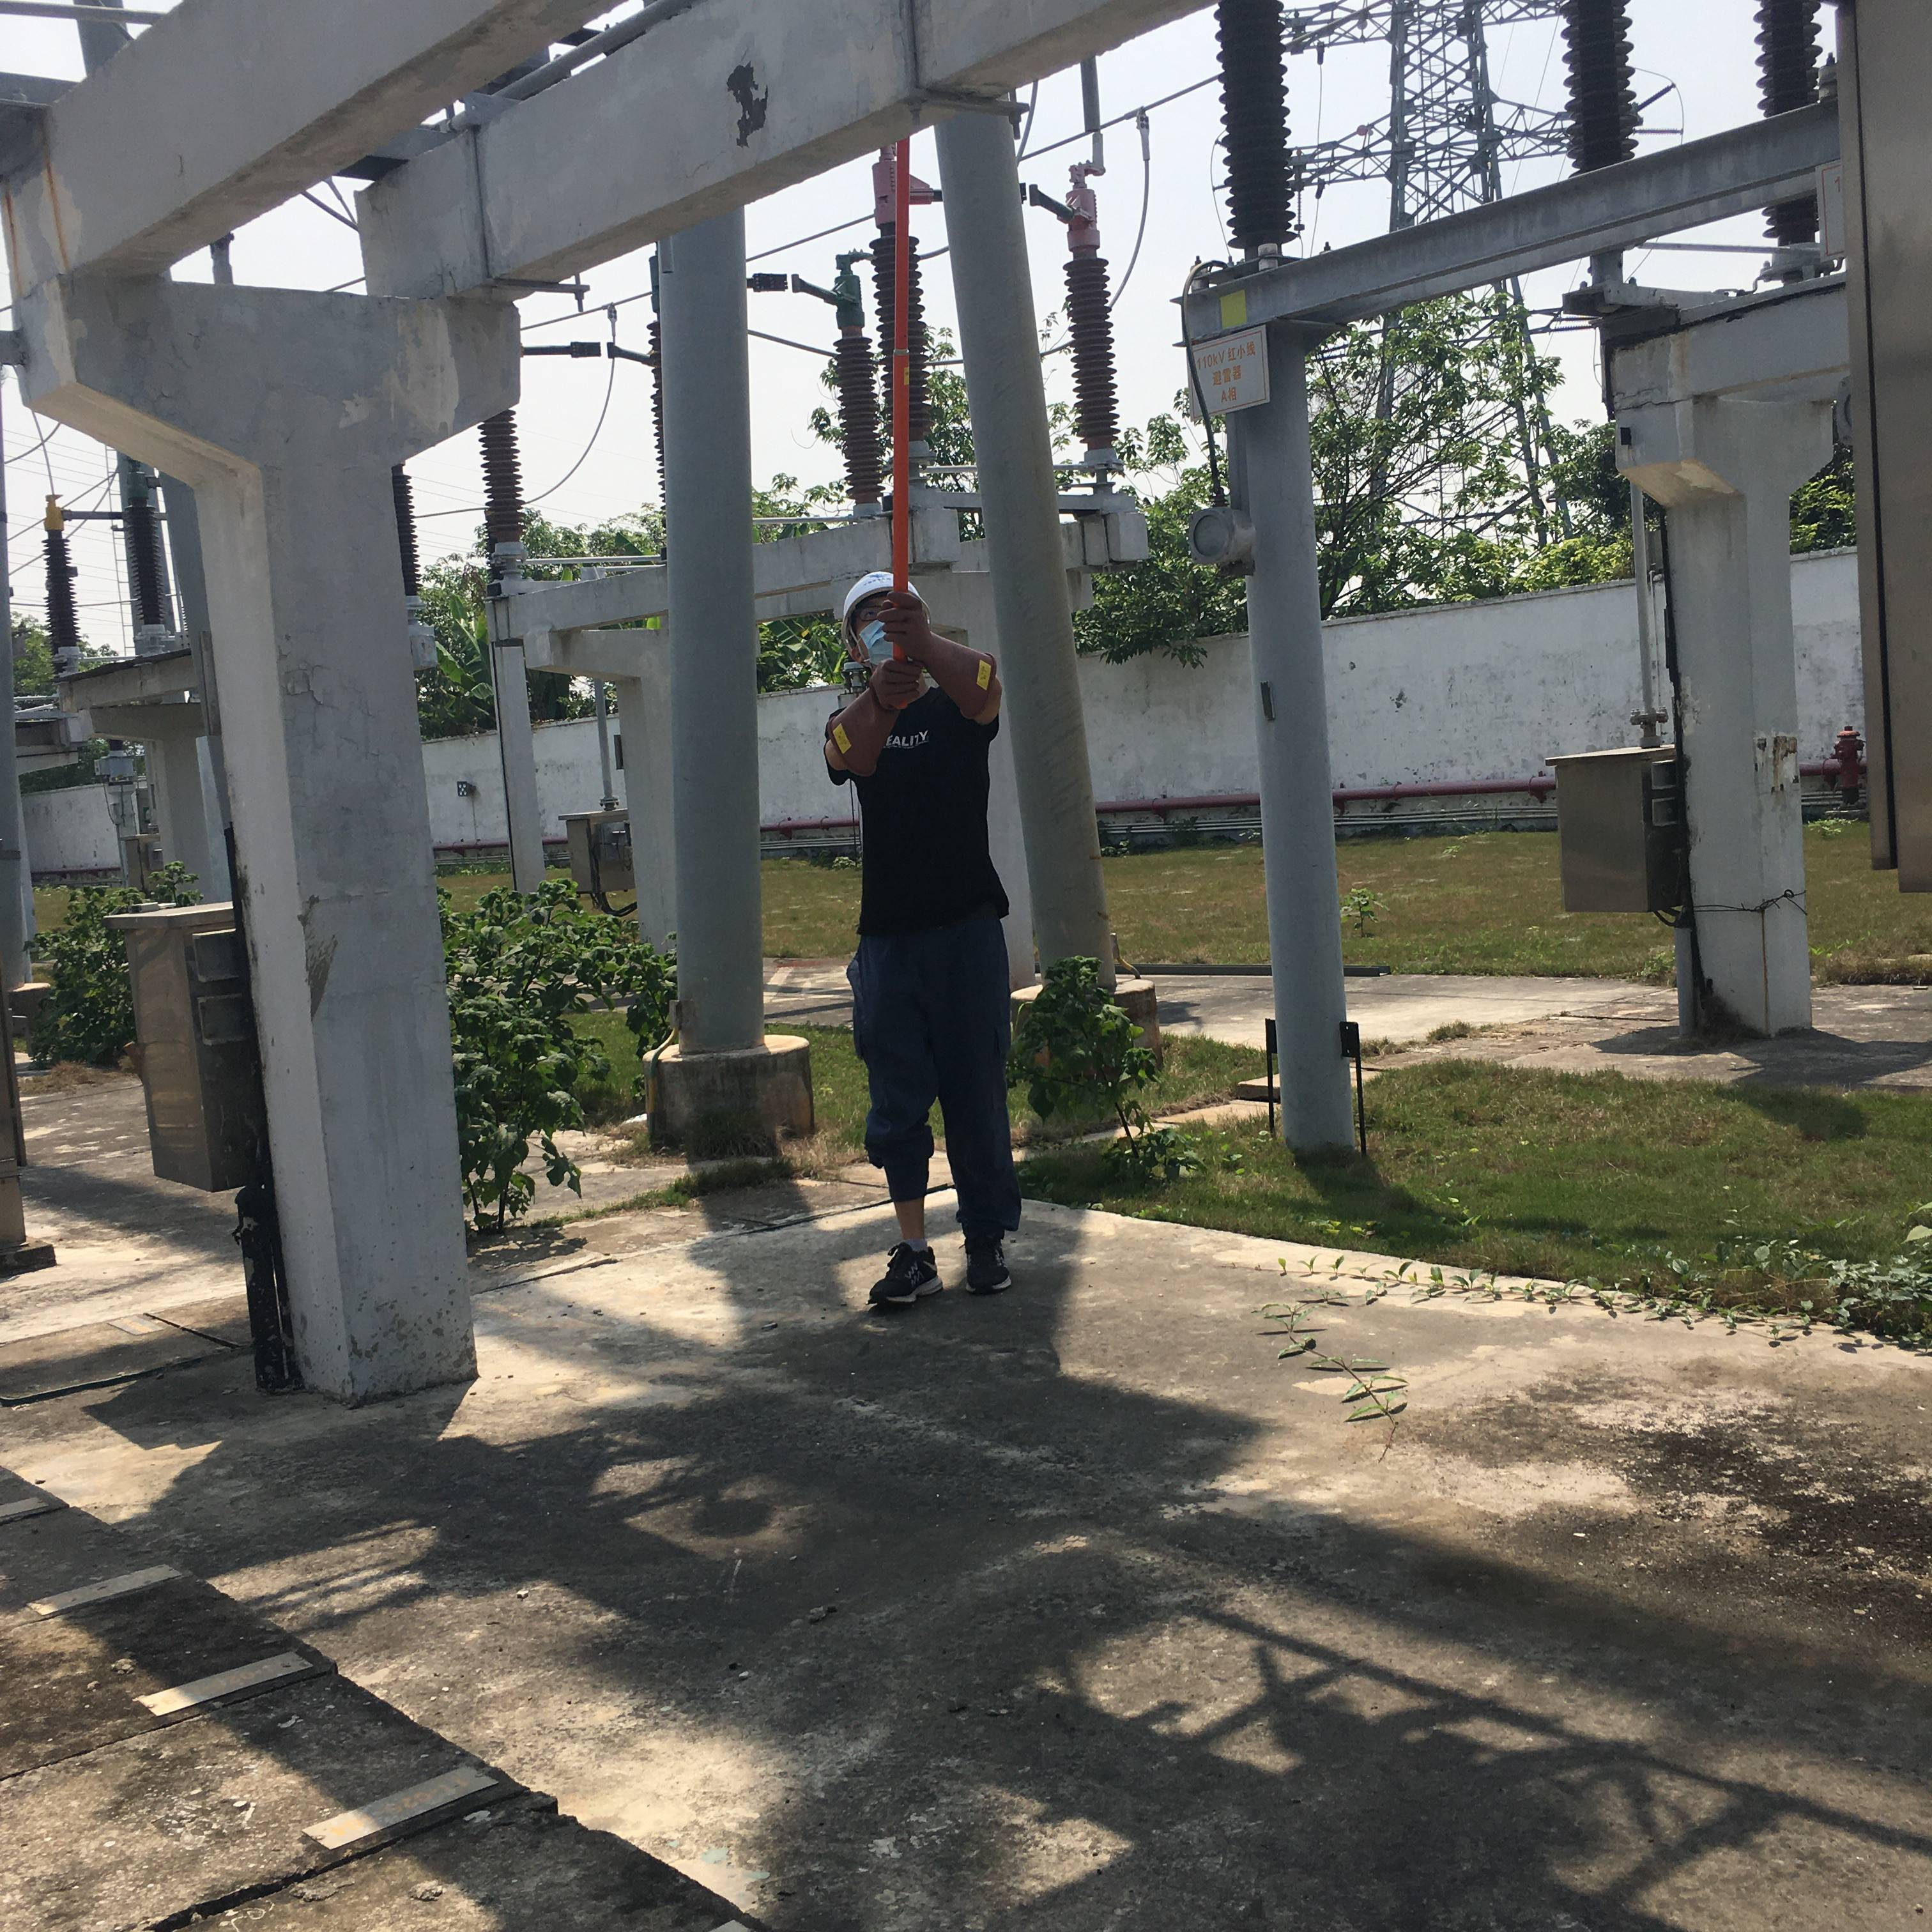downsuit: (849, 932, 1026, 1272)
upcloth: (839, 713, 1007, 920)
wrongbottom: (863, 1120, 938, 1242)
